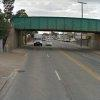Bridge: (10, 6, 98, 42)
